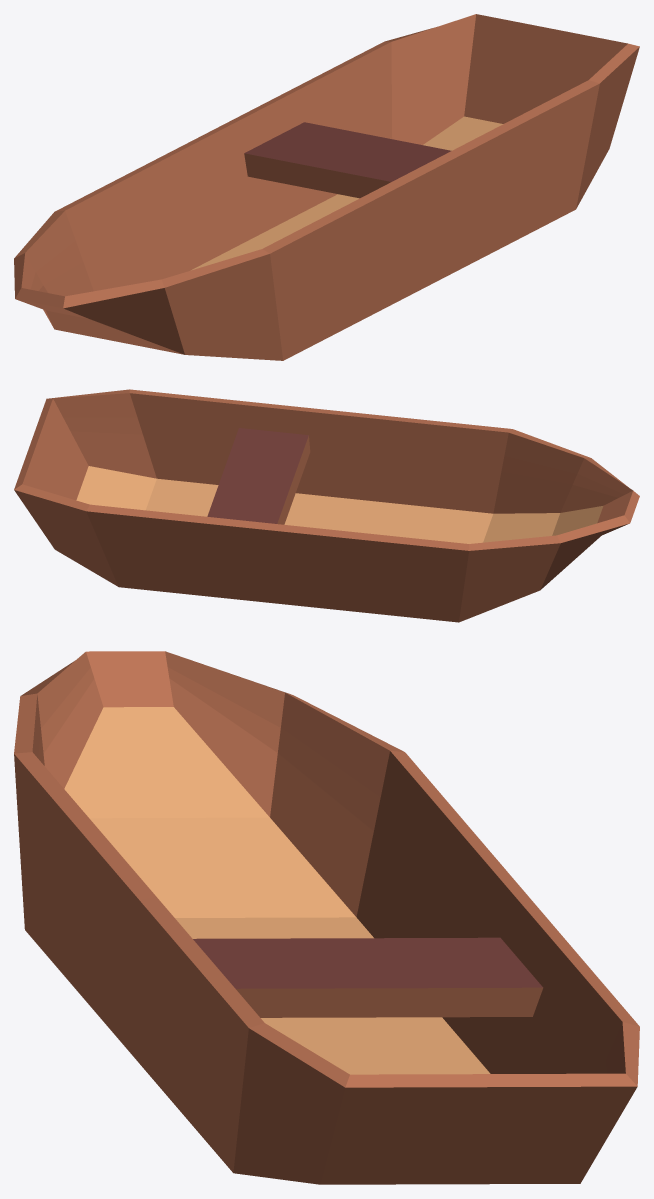
Rendered from boat2.glb.
The picture shows the model from 3 angles, top to bottom: view 1: azimuth 30°, elevation 25°; view 2: azimuth 150°, elevation 25°; view 3: azimuth 270°, elevation 25°; orthographic projection. The views are drawn at different scales.
Visible parts, largest first — view 1: Boat; view 2: Boat; view 3: Boat.
Part boxes in pixels (<box>): Boat: <box>14,14,639,360</box>; Boat: <box>14,389,639,622</box>; Boat: <box>14,651,639,1184</box>.
Size of the model in its own units: 2.83 by 0.6216 by 1.55.
1 material, 1 textured.
